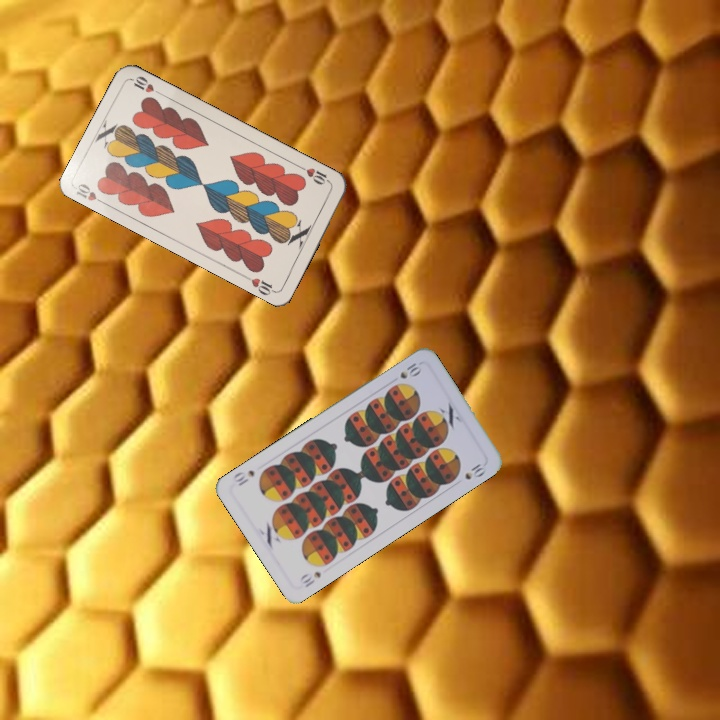H10: (72, 179, 109, 208), (296, 162, 334, 188)
S10: (295, 567, 324, 590), (396, 359, 424, 381)
